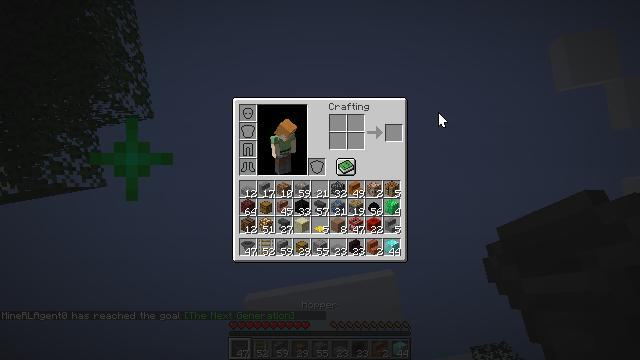cursor: (438, 112, 448, 128)
